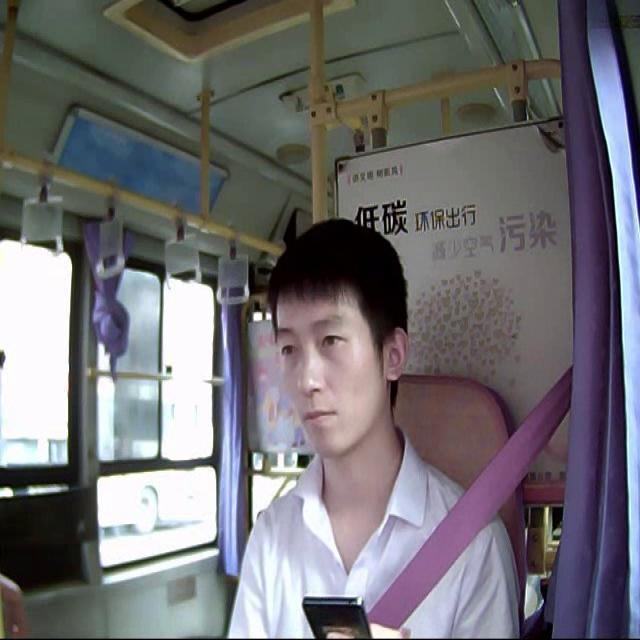Attentive: (268, 214, 410, 459)
Eye-Open: (322, 332, 344, 352), (279, 339, 301, 358)
Normal: (298, 404, 336, 427)
